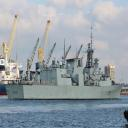Fragata: (6, 43, 125, 101)
